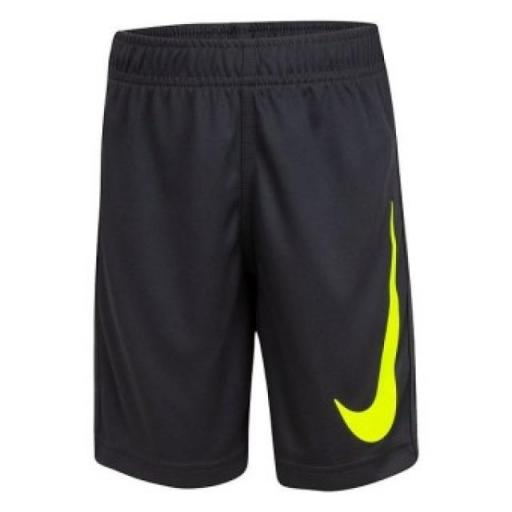Nike: (338, 191, 412, 444)
